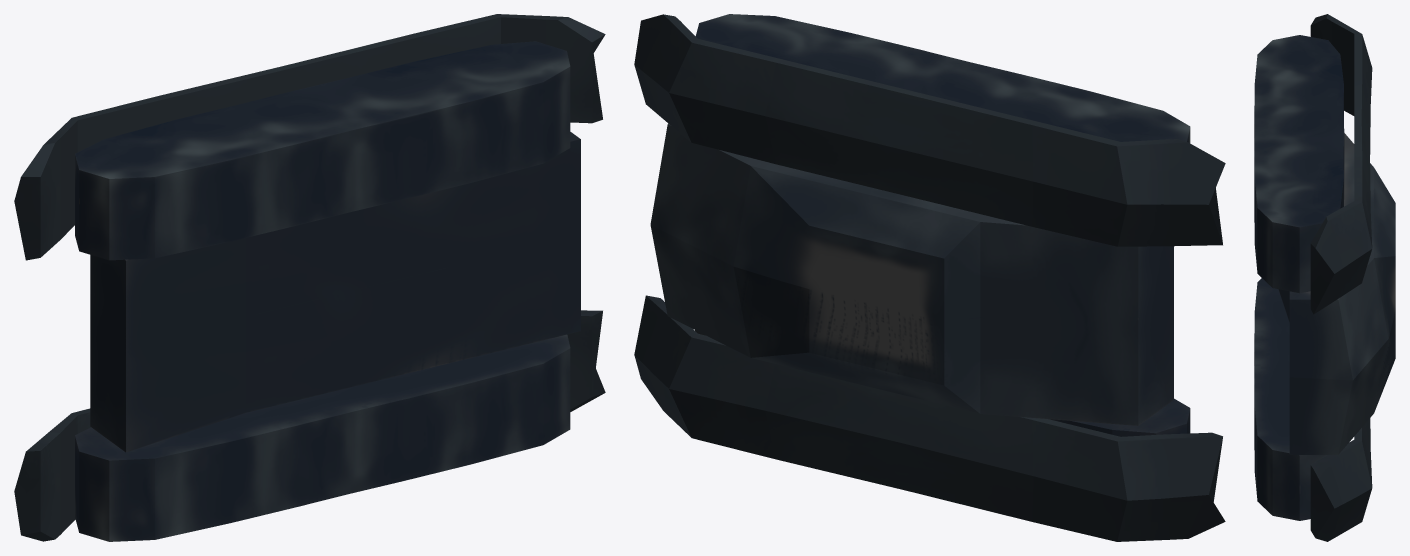
File: tankbase.fbx
3 views of the same model, side by side, from view 1: azimuth 30°, elevation 25°; view 2: azimuth 150°, elevation 25°; view 3: azimuth 270°, elevation 25° (orthographic). The views are drawn at different scales.
Visible parts, largest first — view 1: Cube.001; view 2: Cube.001; view 3: Cube.001.
Boxes of the visible parts, box(x1,y1,x2,y2) form: Cube.001: box(14, 14, 605, 541); Cube.001: box(634, 14, 1225, 541); Cube.001: box(1254, 14, 1395, 541).
Size of the model in its own units: 1224 by 794 by 316.
1 material, 1 textured.
